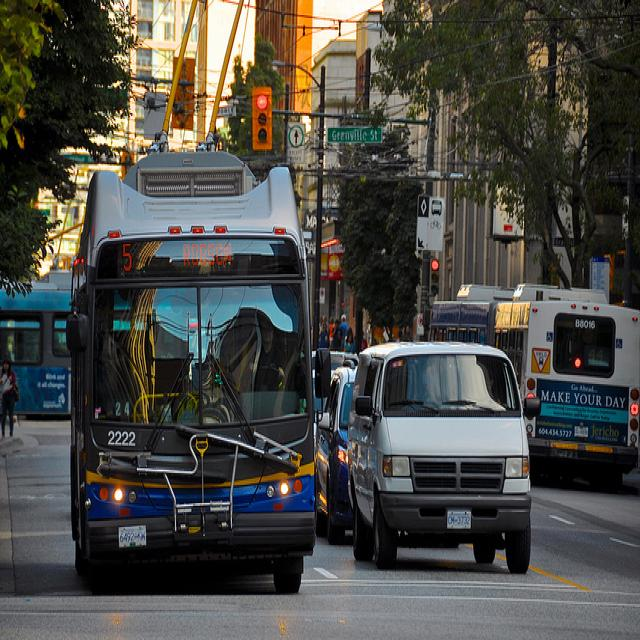Vehicle: (71, 160, 320, 600), (348, 338, 544, 578), (349, 339, 533, 573), (428, 301, 640, 491), (1, 286, 75, 419), (313, 366, 357, 547), (311, 350, 359, 410)
